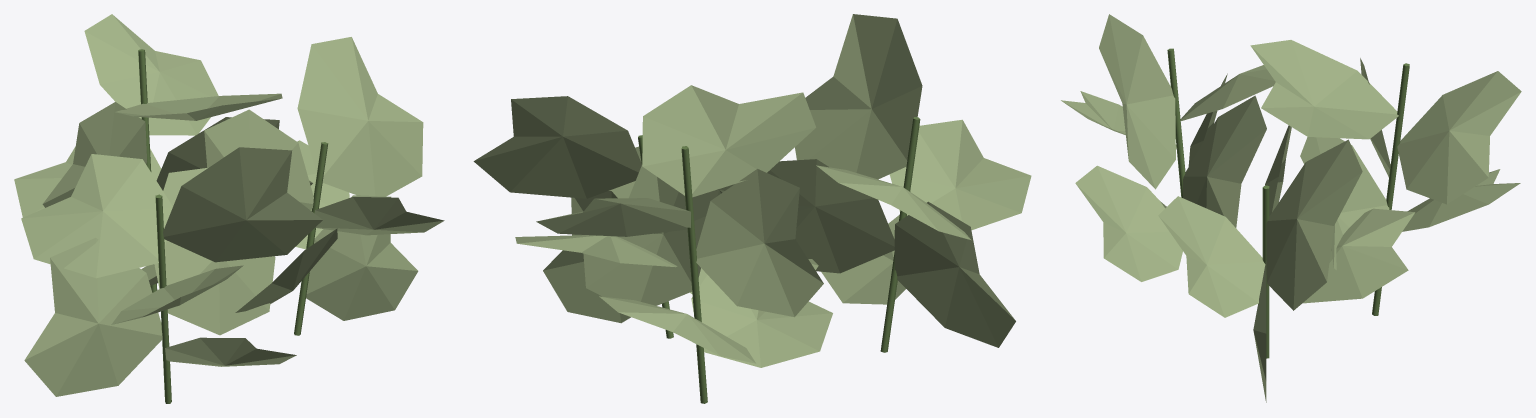
File: syngonium-podophyllum-white-butterfly.glb
3 renders of one model, left to right at view 1: azimuth 30°, elevation 25°; view 2: azimuth 150°, elevation 25°; view 3: azimuth 270°, elevation 25°, orthographic. The views are drawn at different scales.
Visible parts, largest first — view 1: Species leaves, Species stems; view 2: Species leaves, Species stems; view 3: Species leaves, Species stems.
Boxes of the visible parts, x1=… form: Species leaves: x1=14, y1=14, x2=444, y2=396; Species stems: x1=138, y1=49, x2=328, y2=403; Species leaves: x1=473, y1=14, x2=1031, y2=367; Species stems: x1=638, y1=117, x2=920, y2=403; Species leaves: x1=1061, y1=14, x2=1521, y2=402; Species stems: x1=1167, y1=48, x2=1409, y2=358.
Size of the model in its own units: 0.5816 by 0.339 by 0.5119.
